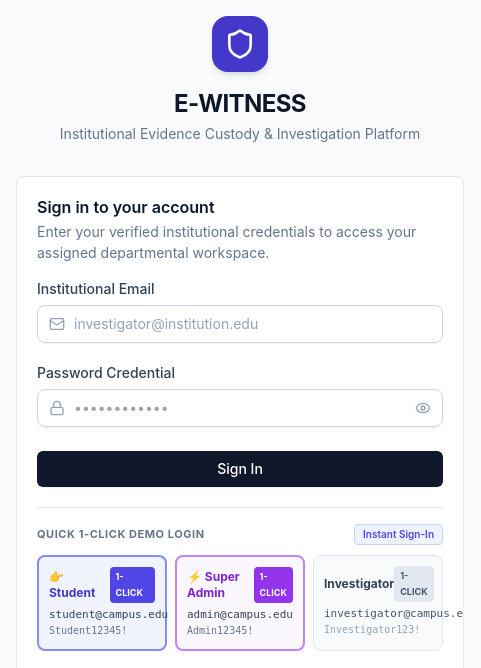
it: LoginPage & LoginForm UI › displays safe generic error message on invalid credentials without leaking password
This screenshot has width=481, height=668.
Type "test@university.edu" into the field labelled "Institutional Email".
click(240, 324); type("test@university.edu")  # box [37, 305, 443, 343]
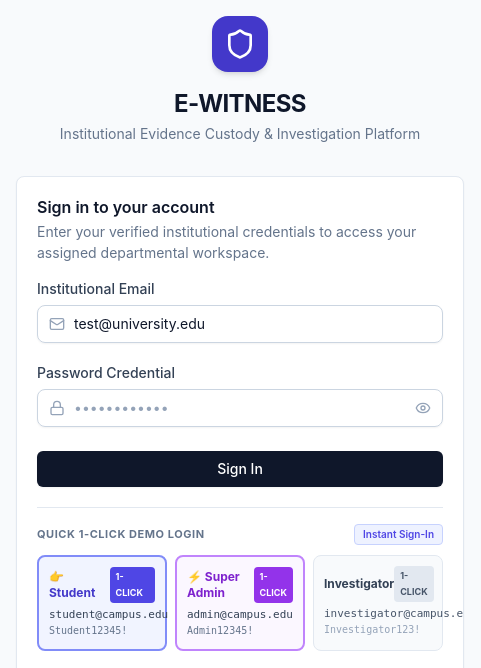
Type "WrongPassword!" into the password field labelled "Password Credential".
click(240, 408); type("WrongPassword!")  # box [37, 389, 443, 427]
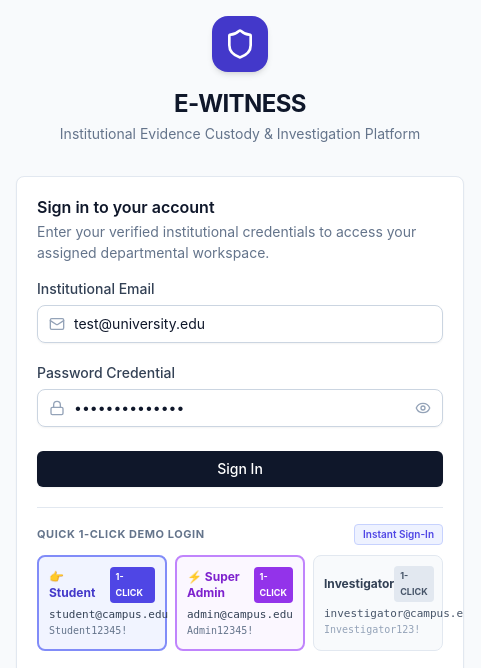
Click the button "Sign In".
click(240, 469)  # box [37, 451, 443, 487]
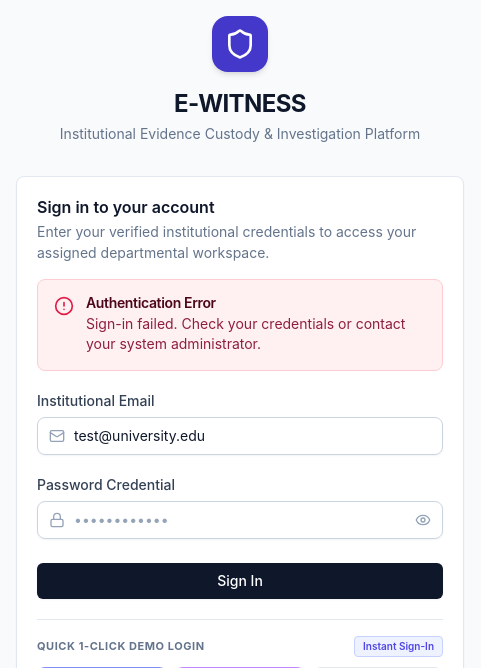
Check: the text "Sign-in failed. Check your credentials or contact your system administrator" is shown, box [86, 315, 406, 352]
Check: the password field labelled "Password Credential" is empty, box [37, 501, 443, 539]
